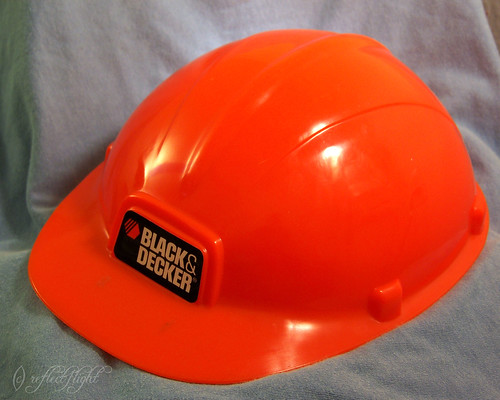hardhat: (21, 26, 493, 382)
